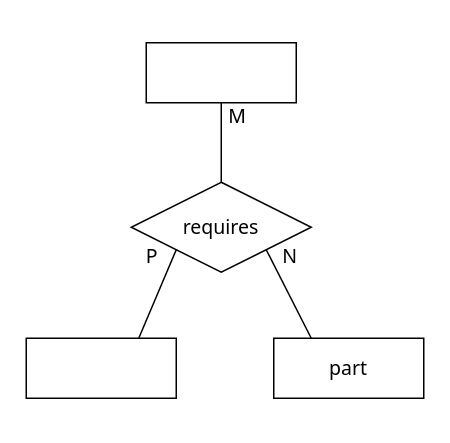
This 450x443 diagram has some shape labels left out. The centre of each missing label's shape, as x and y in pixels:
"project" goes at (x=220, y=72).
"vendor" goes at (x=100, y=367).
